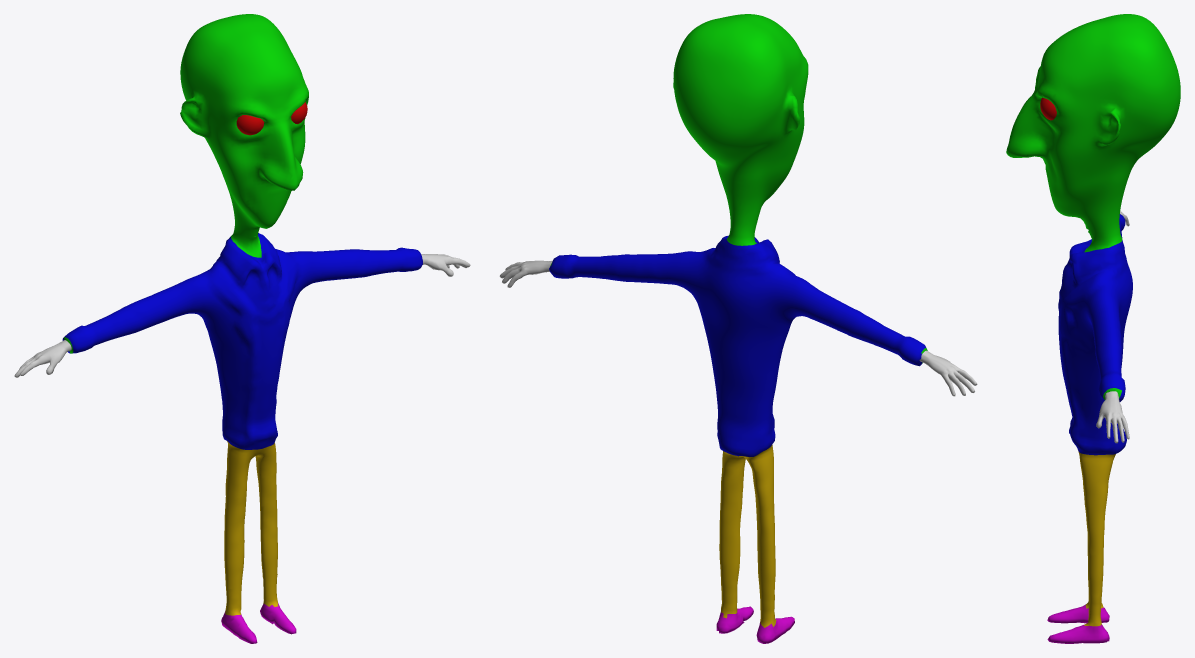
The model's file is Talking.binary.fbx.
3 views of the same model, side by side, from view 1: azimuth 30°, elevation 25°; view 2: azimuth 150°, elevation 25°; view 3: azimuth 270°, elevation 25° (orthographic). The views are drawn at different scales.
Visible parts, largest first — view 1: PR_Low; view 2: PR_Low; view 3: PR_Low.
Boxes of the visible parts, x1,y1,x2,y2 form: PR_Low: (14,14,470,643); PR_Low: (499,14,977,643); PR_Low: (1006,14,1180,643).
Size of the model in its own units: 505 by 631 by 164.
